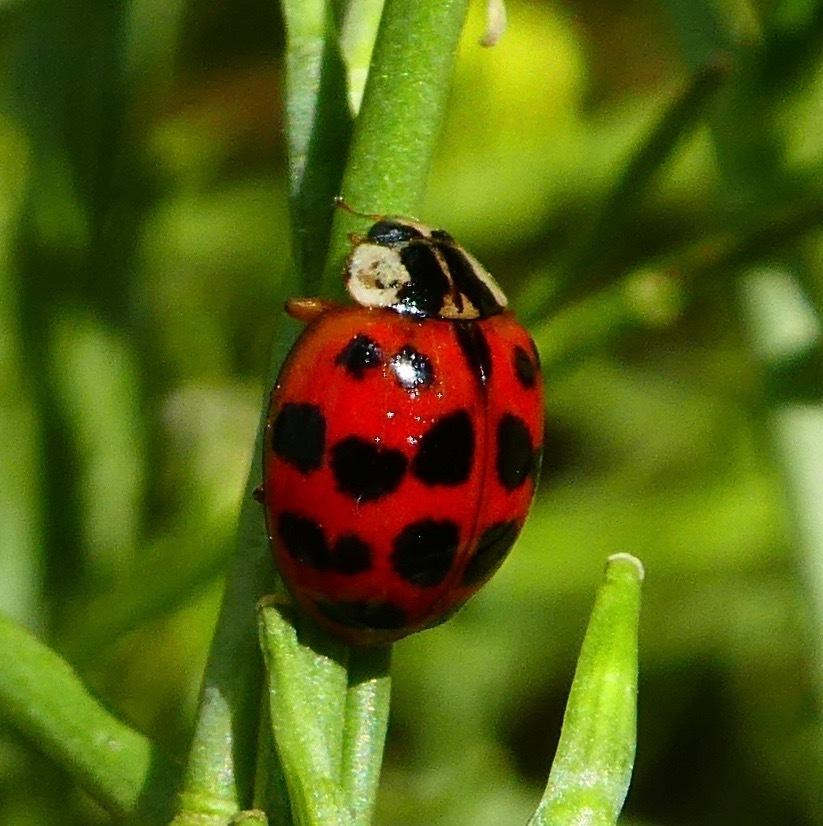ladybug: (251, 194, 551, 651)
